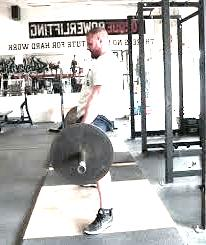Barbell: (76, 164, 85, 175)
